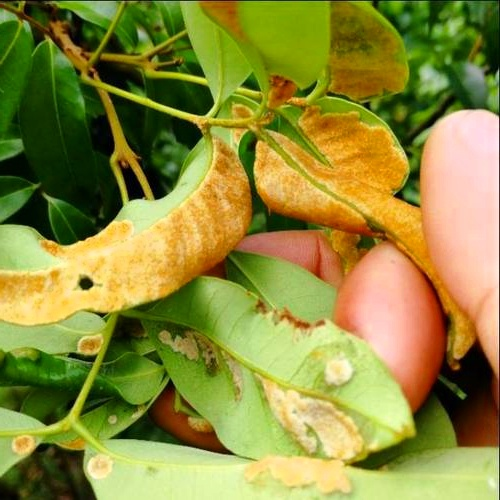Gall_Mite: (20, 131, 259, 336), (272, 94, 464, 312), (193, 357, 390, 497), (12, 349, 152, 479), (272, 6, 388, 66)
